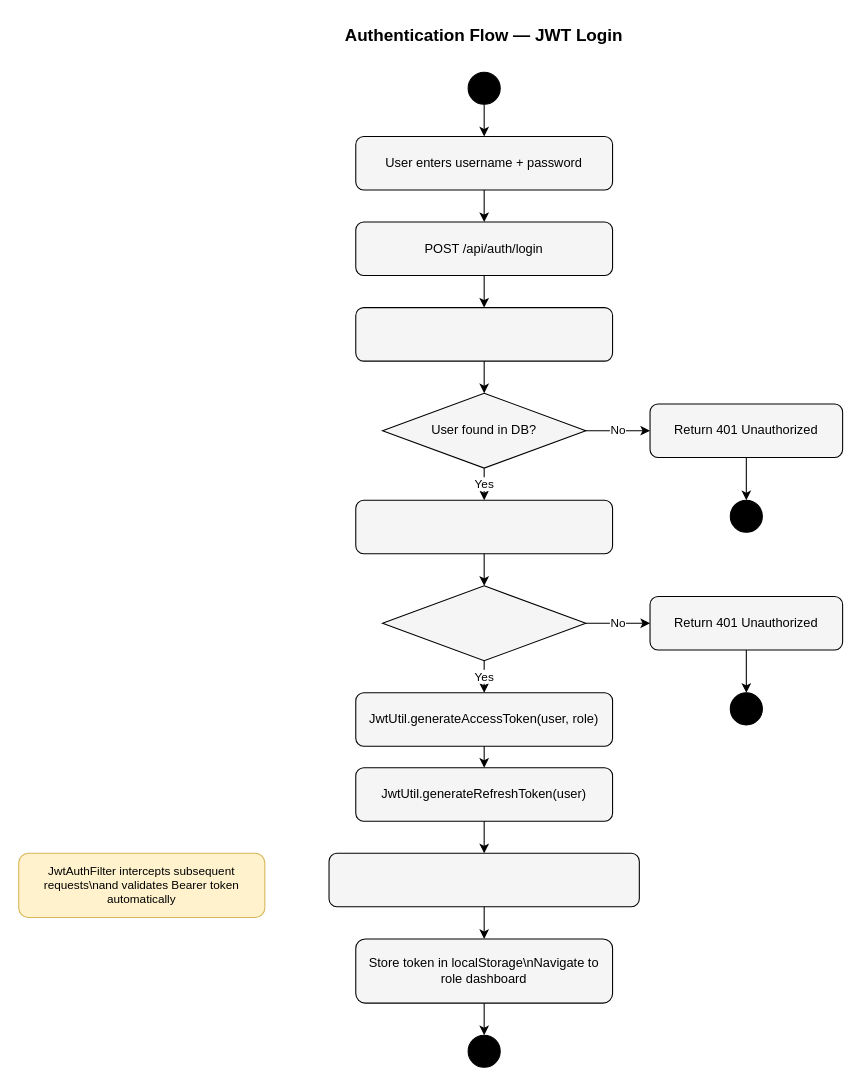
Some shapes in this 861 by 1086 pixel diagram are drawn without their labels. Each missing label, with the centre of its shape:
"BCrypt.verify(password, hash)" goes at pixel 484 526.
"Password correct?" goes at pixel 483 623.
"Return 200 AuthResponse {accessToken, refreshToken, role}" goes at pixel 483 879.
"UserDetailsServiceImpl.loadUserByUsername()" goes at pixel 484 334.
